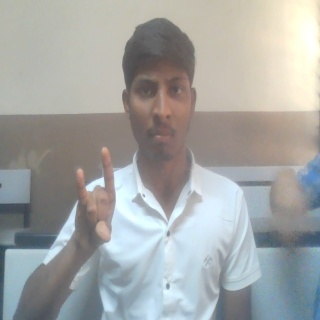Face: (121, 16, 198, 169)
I Love You: (72, 143, 119, 253)
